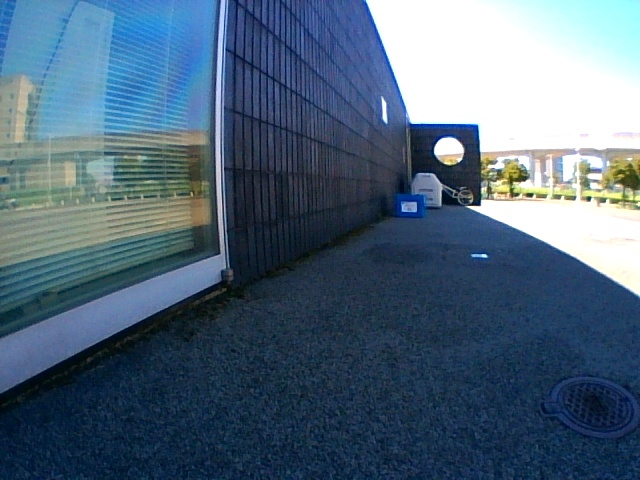blue_box: (396, 194, 425, 218)
tag: (402, 202, 416, 211)
